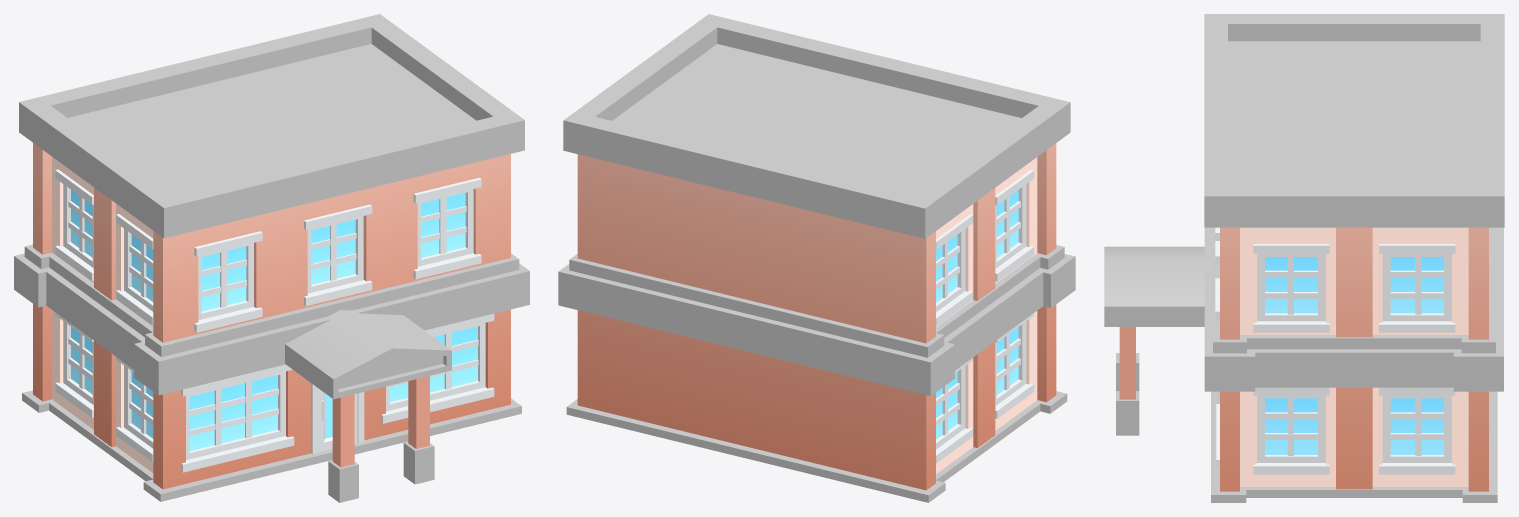
File: Building_Living_39.glb
3 views of the same model, side by side, from view 1: azimuth 30°, elevation 25°; view 2: azimuth 150°, elevation 25°; view 3: azimuth 270°, elevation 25° (orthographic). The views are drawn at different scales.
Parts seen in each view (by area): view 1: Building_Living_39; view 2: Building_Living_39; view 3: Building_Living_39.
Boxes of the visible parts, left/top/right/bottom form: Building_Living_39: left=14, top=14, right=529, bottom=502; Building_Living_39: left=558, top=14, right=1075, bottom=502; Building_Living_39: left=1104, top=14, right=1504, bottom=502.
Bounding box in the file's own units: 10.14 × 7.72 × 9.14.
Materials: 1 (1 with a texture image).
